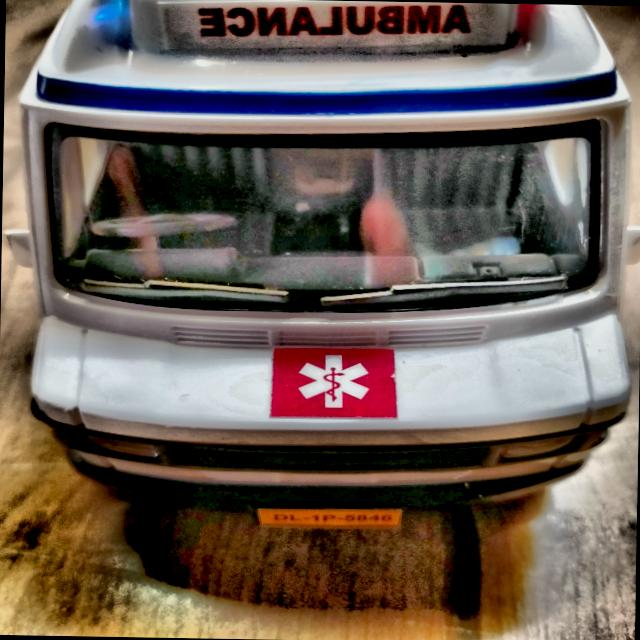Ambulance: (14, 0, 640, 513)
